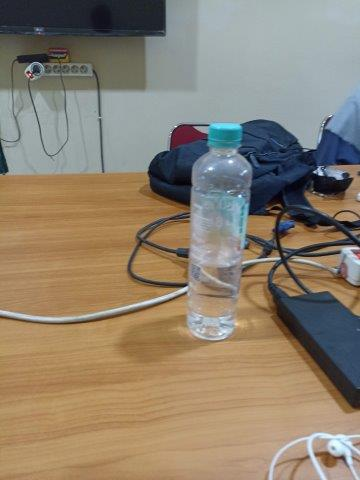botolplastik: (190, 121, 252, 340)
